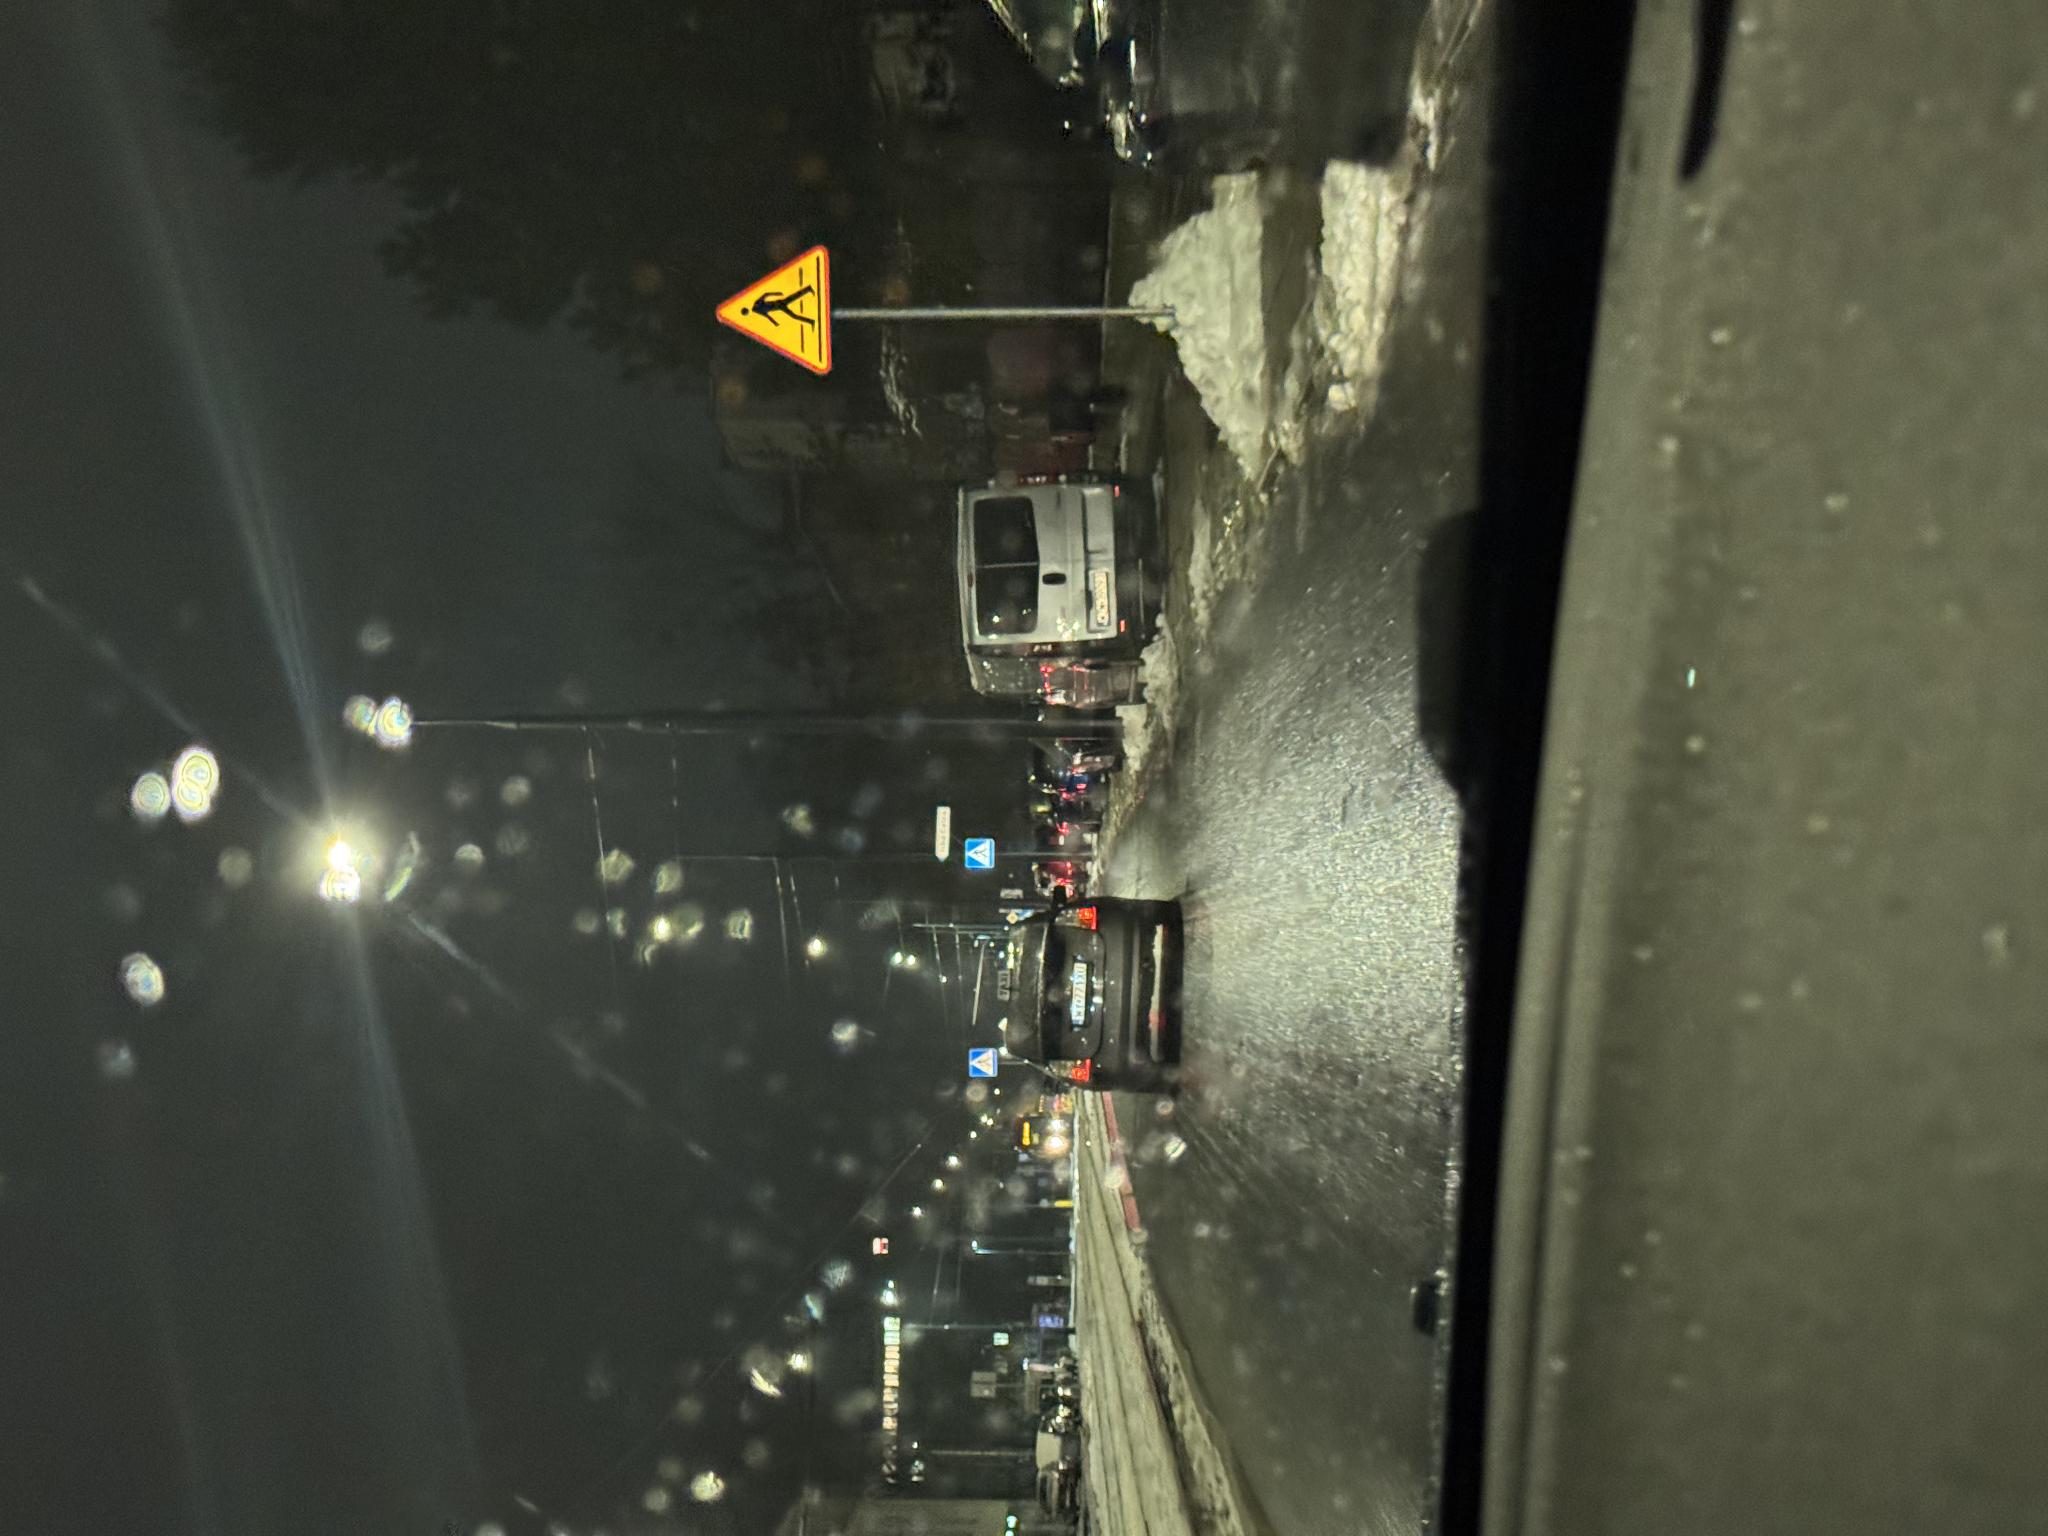direction-city: (674, 934, 732, 950)
information: (666, 963, 698, 994), (458, 968, 487, 997)
warning: (1161, 715, 1293, 834)
